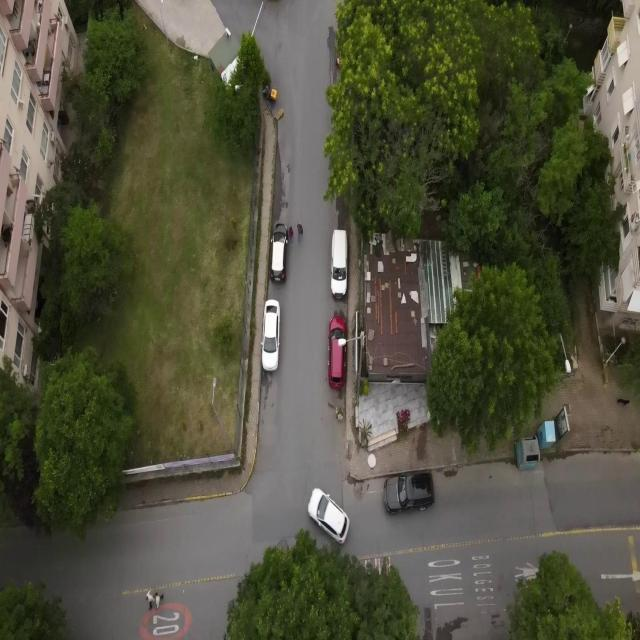p3rson: (145, 586, 155, 612), (152, 591, 164, 611), (296, 220, 304, 245), (288, 224, 294, 247)
